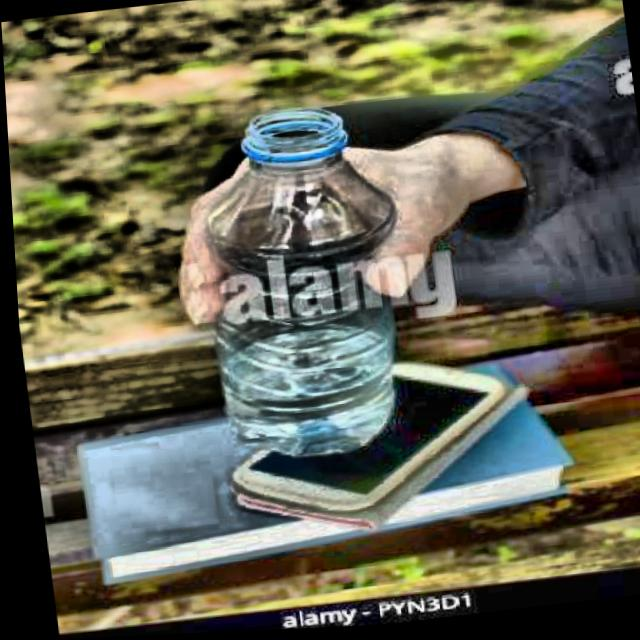Bottles: (141, 61, 445, 492)
